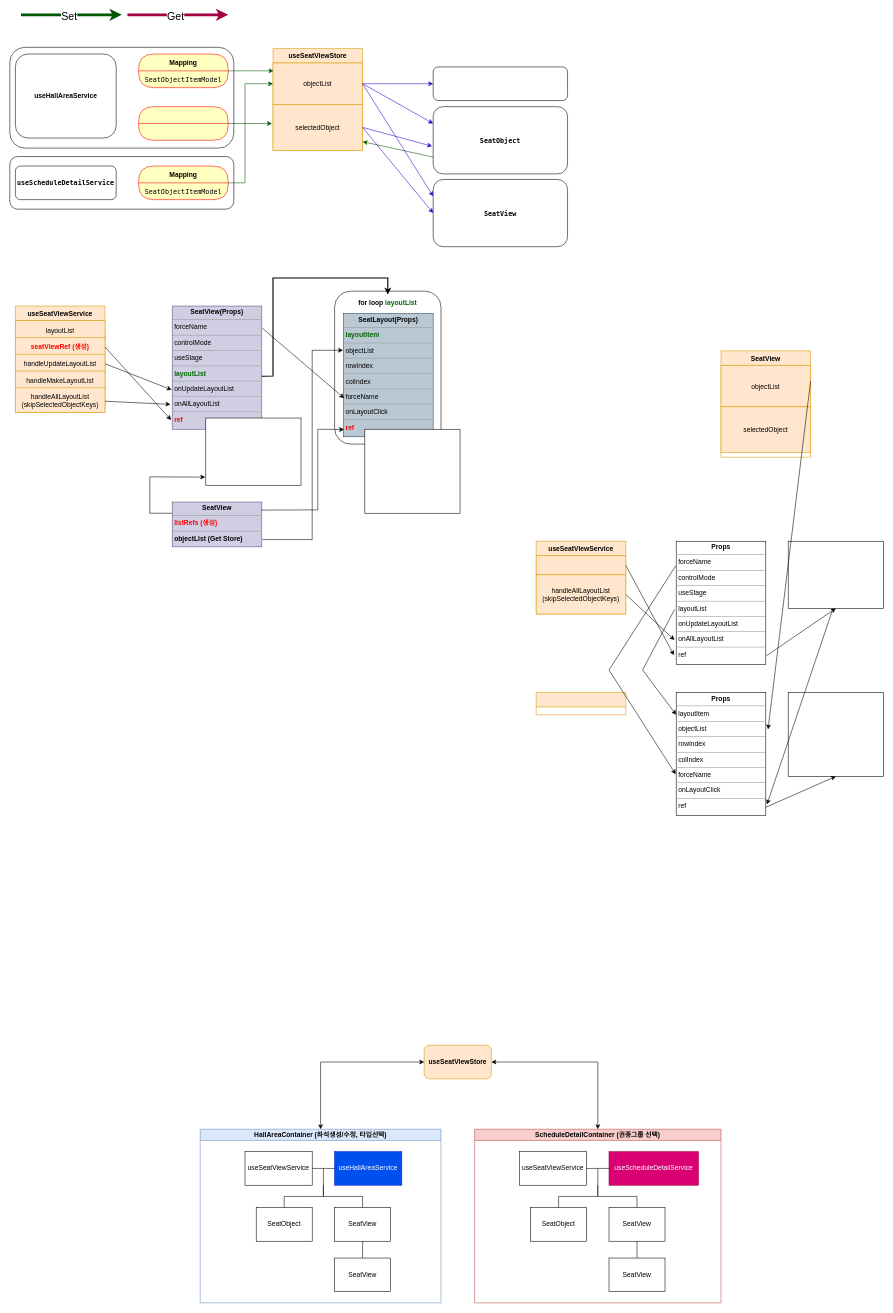
This 893x1313 diagram has some shape labels left out. The shapes that lost their labels are listed below. From the top down, each one's centre as x and y in pixels, then its label:
At (x=500, y=83): "useLayoutTemplateExcelService".
At (x=183, y=123): "Submit".
At (x=253, y=451): "SeatViewRefInterface makeSeatList resetListRefs getListRefs".
At (x=412, y=471): "SeatRefInterface onCheck onSelected onAllSelected getData".
At (x=581, y=565): "seatViewRef".
At (x=835, y=574): "ref makeSeatList resetListRefs getListRefs".
At (x=581, y=703): "SeatLayout".
At (x=835, y=734): "ref onCheck onSelected onAllSelected getData".
